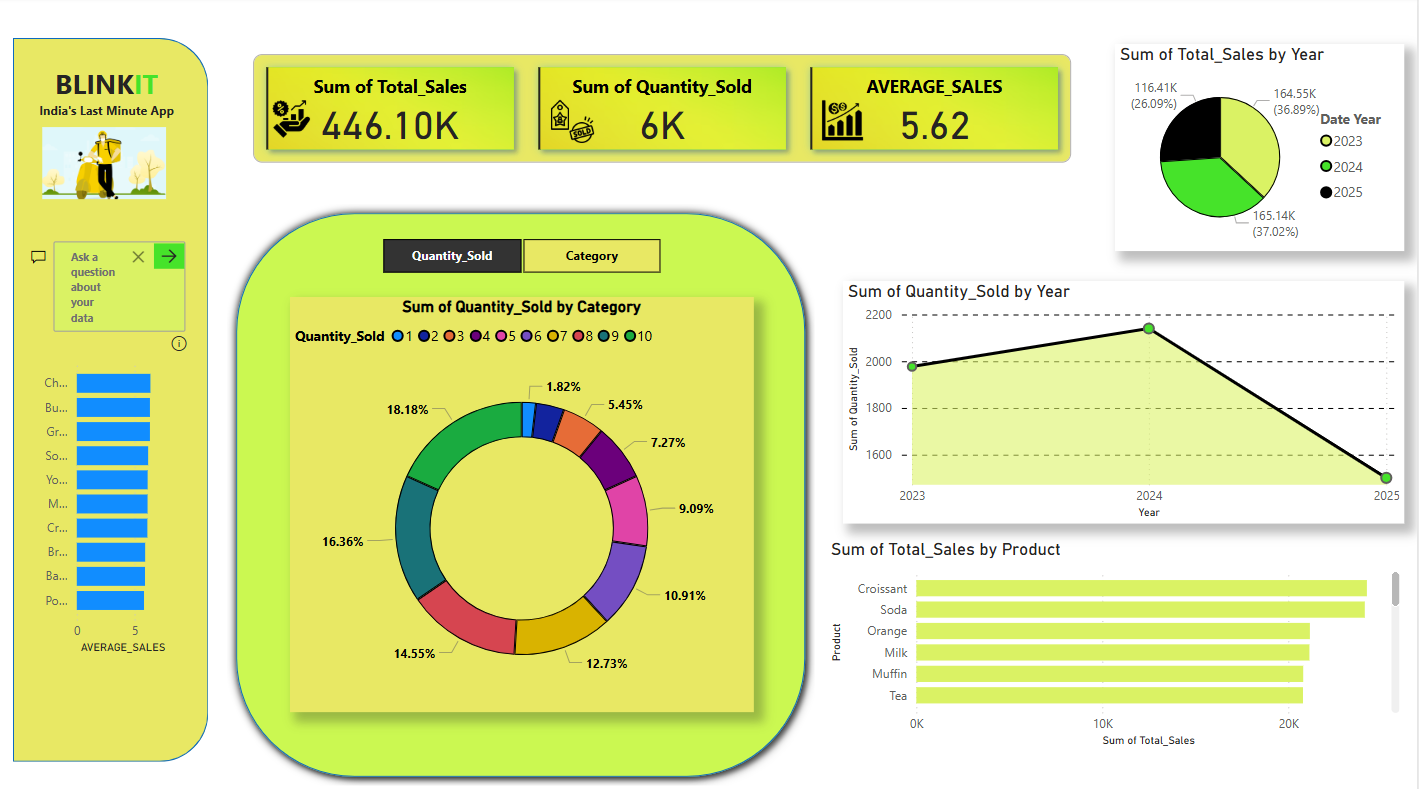

This screenshot's page, from the dashboard's own definition file:
{"tool":"powerbi","page":{"name":"Page 1","canvas":[1400,800],"ordinal":0},"visuals":[{"type":"shape","box":[16.8,40,192.5,713.1],"z":0},{"type":"textbox","box":[28.4,61,160.9,69.4],"z":1000},{"type":"cardVisual","fields":{"Data":["Sum(Sales_Data_Analysis_Project.Total_Sales)","Sum(Sales_Data_Analysis_Project.Quantity_Sold)","Sales_Data_Analysis_Project.AVERAGE_SALES"]},"box":[247.9,51.1,818.1,117],"z":2000},{"type":"image","box":[256.4,95.7,70.2,50],"z":3000},{"type":"image","box":[794.7,95.7,78.7,52.1],"z":4000},{"type":"image","box":[528.7,95.7,78.7,54.3],"z":5000},{"type":"shape","box":[227.7,204.3,578.7,573.4],"z":6000},{"type":"donutChart","title":"Sum of Quantity_Sold by Category","fields":{"Series":["Sales_Data_Analysis_Project.Category"],"Y":["Sales_Data_Analysis_Project.AVERAGE_SALES"]},"box":[289.7,296,456.5,409.3],"z":7000},{"type":"slicer","fields":{"Values":["Metrics.Metrics"]},"box":[355.3,231.9,323.4,46.8],"z":8000},{"type":"barChart","fields":{"Category":["Sales_Data_Analysis_Project.Product"],"Y":["Sum(Sales_Data_Analysis_Project.Total_Sales)"]},"box":[817.3,534.3,570.1,209.3],"z":9000},{"type":"pieChart","fields":{"Category":["Sales_Data_Analysis_Project.Date.Variation.Date Hierarchy.Year","Sales_Data_Analysis_Project.Date.Variation.Date Hierarchy.Month"],"Y":["Sum(Sales_Data_Analysis_Project.Total_Sales)"]},"box":[1102.3,46.3,285,204.1],"z":10000},{"type":"lineChart","fields":{"Category":["Sales_Data_Analysis_Project.Date.Variation.Date Hierarchy.Year"],"Y":["Sum(Sales_Data_Analysis_Project.Quantity_Sold)"],"Y2":["Sales_Data_Analysis_Project.AVERAGE_SALES"]},"box":[834.1,279.8,553.3,238.8],"z":11000},{"type":"qnaVisual","box":[25.2,215.6,168.3,508],"z":12000},{"type":"image","box":[28.4,123.1,156.7,81],"z":13000}]}

Visuals, with their boxes in screenshot pixels (x1, y1, x2, y2), scaled from the page's 1400x800 canvas onto the 1419x789 screenshot:
shape: 17, 39, 212, 743
textbox: 29, 60, 192, 129
cardVisual - Sum(Sales_Data_Analysis_Project.Total_Sales) x Sum(Sales_Data_Analysis_Project.Quantity_Sold): 251, 50, 1080, 166
image: 260, 94, 331, 144
image: 805, 94, 885, 146
image: 536, 94, 616, 148
shape: 231, 201, 817, 767
"Sum of Quantity_Sold by Category" donutChart: 294, 292, 756, 696
slicer - Metrics.Metrics: 360, 229, 688, 275
barChart - Sales_Data_Analysis_Project.Product x Sum(Sales_Data_Analysis_Project.Total_Sales): 828, 527, 1406, 733
pieChart - Sales_Data_Analysis_Project.Date.Variation.Date Hierarchy.Year x Sales_Data_Analysis_Project.Date.Variation.Date Hierarchy.Month: 1117, 46, 1406, 247
lineChart - Sales_Data_Analysis_Project.Date.Variation.Date Hierarchy.Year x Sum(Sales_Data_Analysis_Project.Quantity_Sold): 845, 276, 1406, 511
qnaVisual: 26, 213, 196, 714
image: 29, 121, 188, 201
